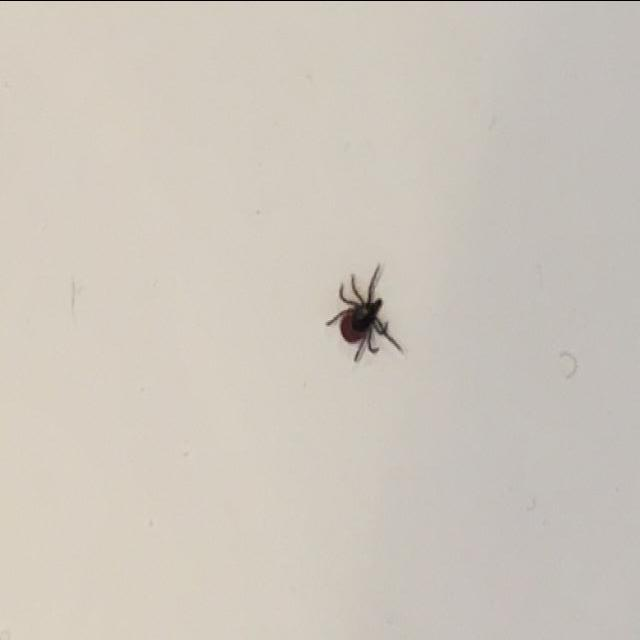Ixodes Ricinus-F: (324, 258, 411, 367)
